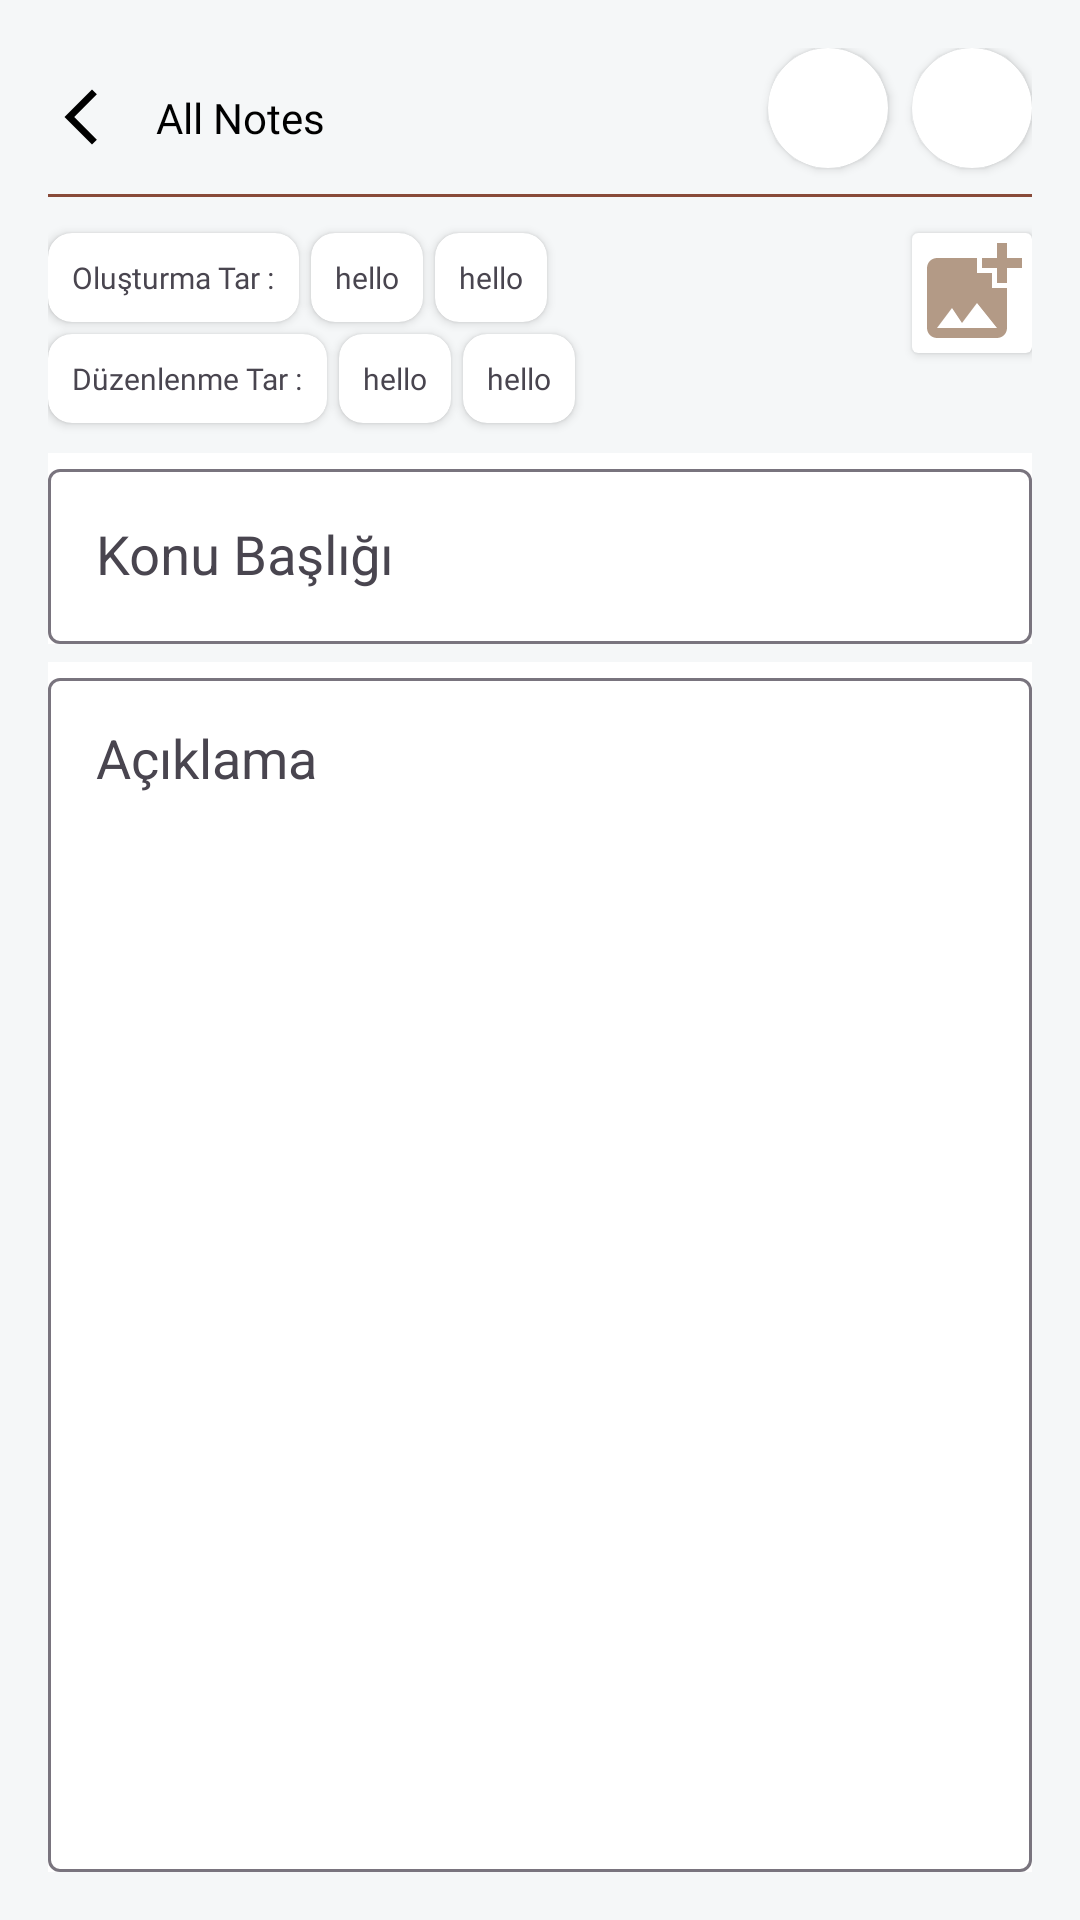

Named icons in this screenshot (1080px x 1920px) and their centers, point (x, y):
add photo: point (972, 293)
back arrow: point (80, 117)
